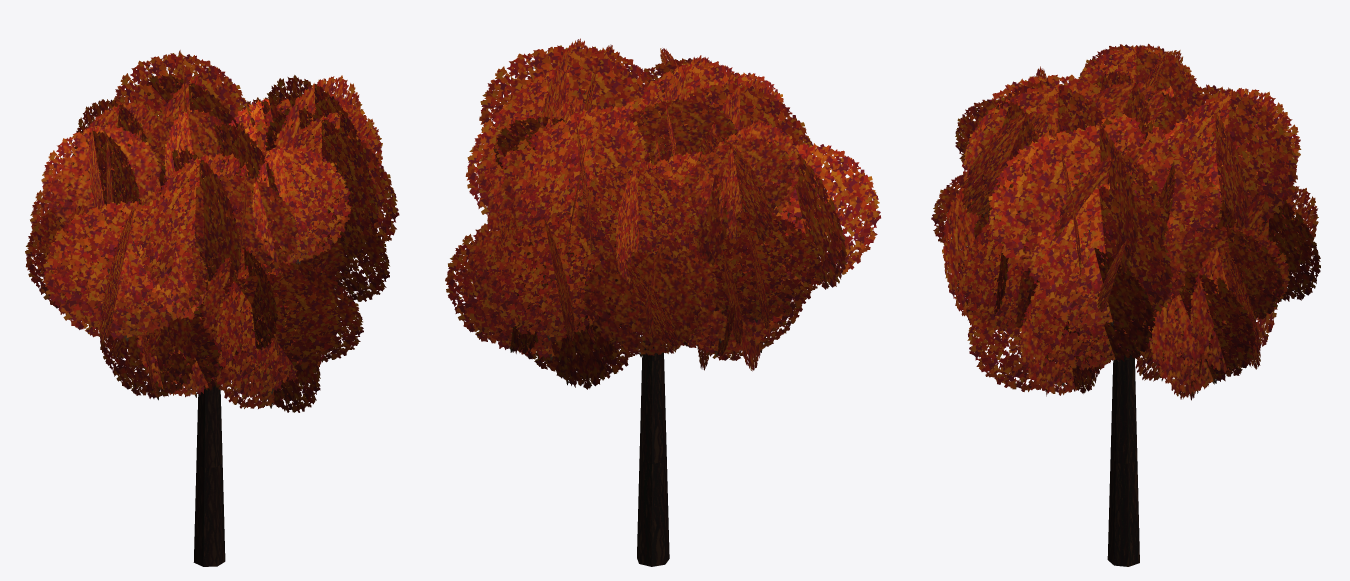
Rendered from maple_autumn.glb.
The picture shows the model from 3 angles, left to right: view 1: azimuth 30°, elevation 25°; view 2: azimuth 150°, elevation 25°; view 3: azimuth 270°, elevation 25°; orthographic projection. The views are drawn at different scales.
Visible parts, largest first — view 1: tree_maple; view 2: tree_maple; view 3: tree_maple.
Part boxes in pixels (bbox=[...]): tree_maple: bbox=[25, 50, 399, 566]; tree_maple: bbox=[445, 38, 880, 566]; tree_maple: bbox=[931, 43, 1320, 566].
Bounding box in the file's own units: 6.65 × 9.07 × 6.67.
3 materials, 3 textured.
